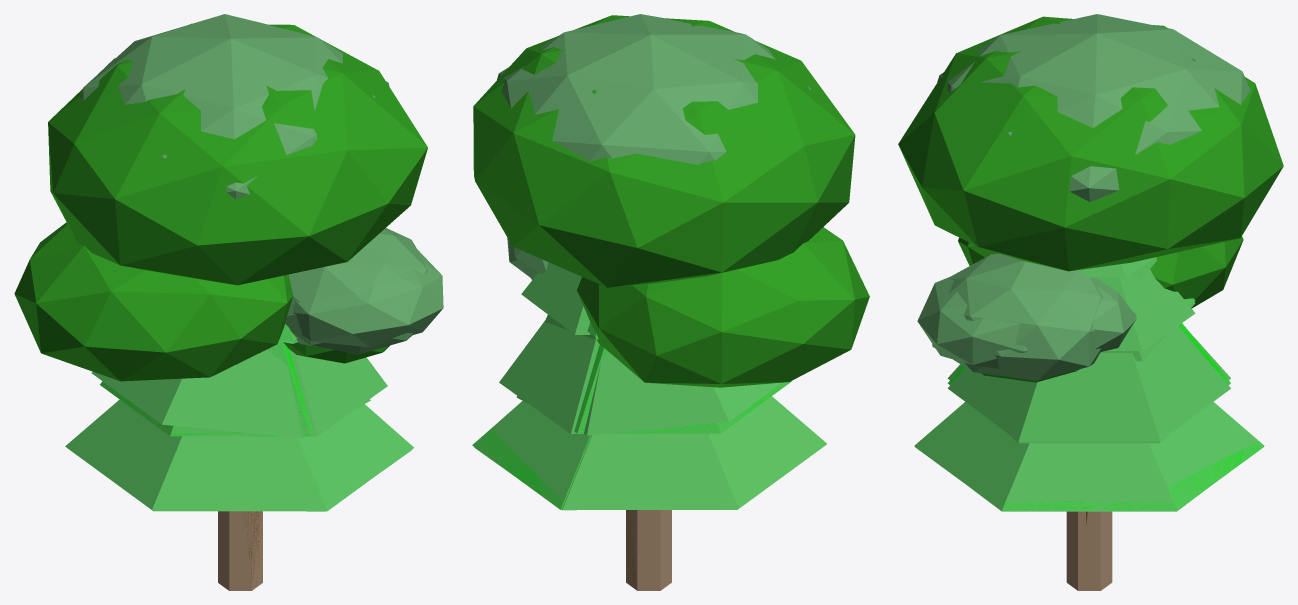
Rendered from TREES.fbx.
3 views of the same model, side by side, from view 1: azimuth 30°, elevation 25°; view 2: azimuth 150°, elevation 25°; view 3: azimuth 270°, elevation 25° (orthographic).
Visible parts, largest first — view 1: BlobTree.002, Tree.Pine.3, BlobTree.003, BlobTree.000, Tree.Pine.2, BlobTree.001, Tree.Pine.1, Tree.Pine.4; view 2: BlobTree.002, BlobTree.003, Tree.Pine.3, BlobTree.000, Tree.Pine.2, Tree.Pine.1, Tree.Pine.4, BlobTree.001; view 3: BlobTree.002, Tree.Pine.2, BlobTree.000, Tree.Pine.1, BlobTree.001, BlobTree.003, Tree.Pine.4, Tree.Pine.3.
Part boxes in pixels (x1,y1,x2,y2): BlobTree.002: (48,23,427,363); Tree.Pine.3: (65,339,411,511); BlobTree.003: (14,222,293,381); BlobTree.000: (79,14,427,354); Tree.Pine.2: (67,349,401,590); BlobTree.001: (292,248,443,347); Tree.Pine.1: (100,324,414,590); Tree.Pine.4: (101,325,325,582); BlobTree.002: (473,15,855,287); BlobTree.003: (577,227,869,387); Tree.Pine.3: (474,315,826,510); BlobTree.000: (497,14,811,276); Tree.Pine.2: (485,262,819,590); Tree.Pine.1: (472,322,791,590); Tree.Pine.4: (473,325,791,587); BlobTree.001: (514,247,548,279); BlobTree.002: (898,16,1283,382); Tree.Pine.2: (921,257,1257,590); BlobTree.000: (929,14,1250,523); Tree.Pine.1: (914,298,1264,590); BlobTree.001: (917,277,1136,368); BlobTree.003: (958,236,1243,308); Tree.Pine.4: (948,298,1263,510); Tree.Pine.3: (914,257,1264,511).
Size of the model in its own units: 2.87 by 4.15 by 2.65.
